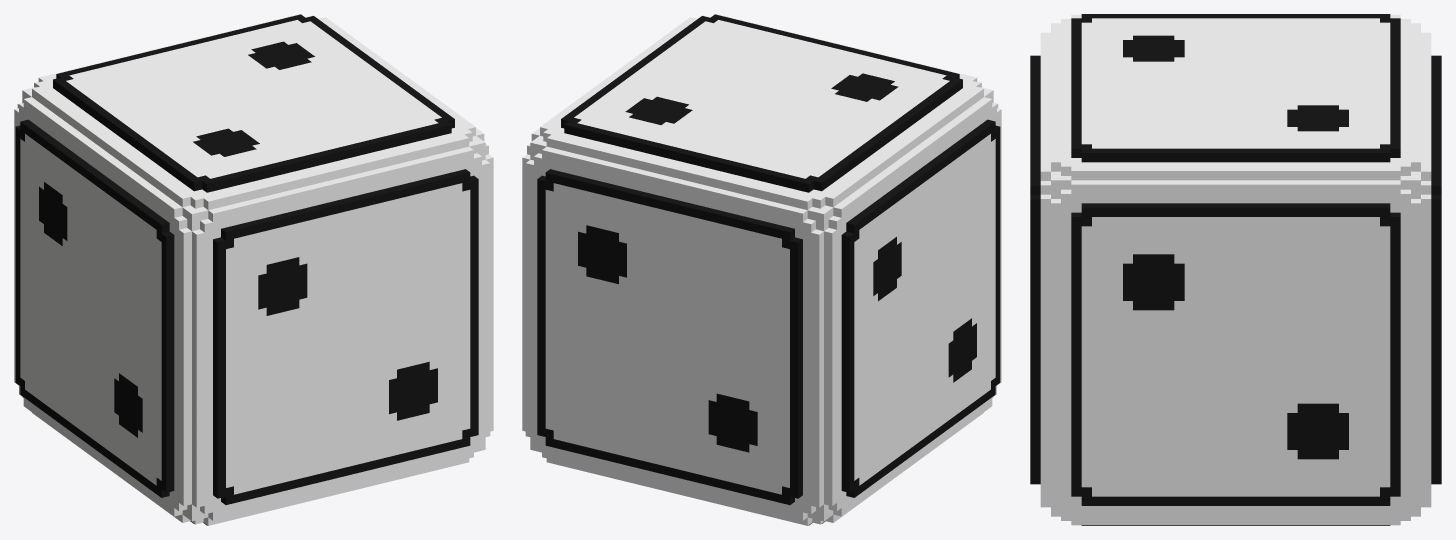
The model's file is Dicemob2.obj.
3 renders of one model, left to right at view 1: azimuth 30°, elevation 25°; view 2: azimuth 150°, elevation 25°; view 3: azimuth 270°, elevation 25°, orthographic. The views are drawn at different scales.
Size of the model in its own units: 4 by 4 by 4.
